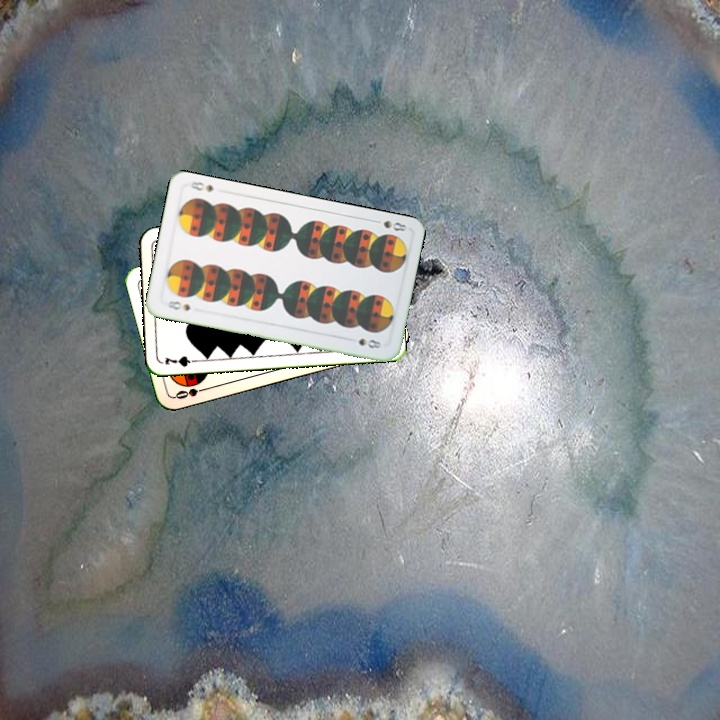G7: (161, 352, 201, 369)
S8: (369, 215, 409, 234), (163, 297, 193, 313)
SO: (171, 383, 211, 402)
